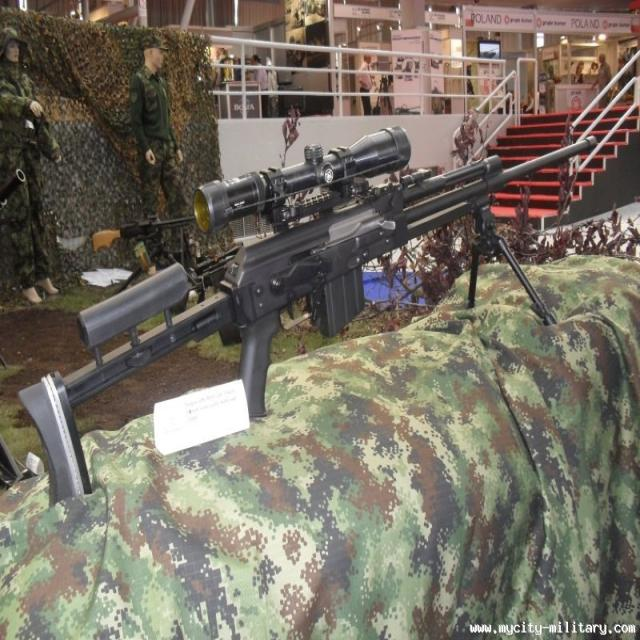firearm: (16, 124, 600, 512)
